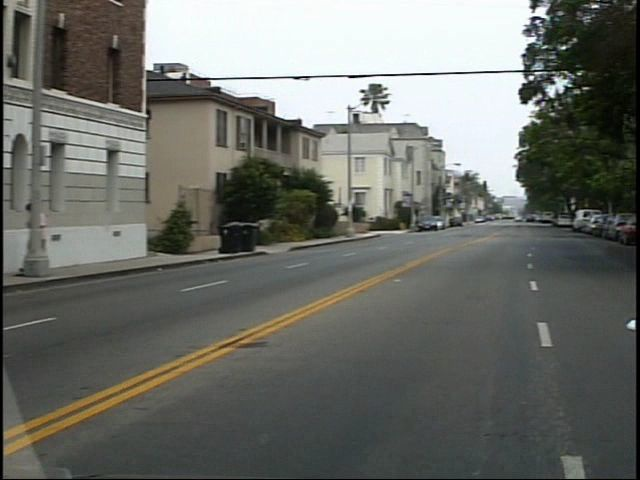person: (33, 198, 67, 277)
